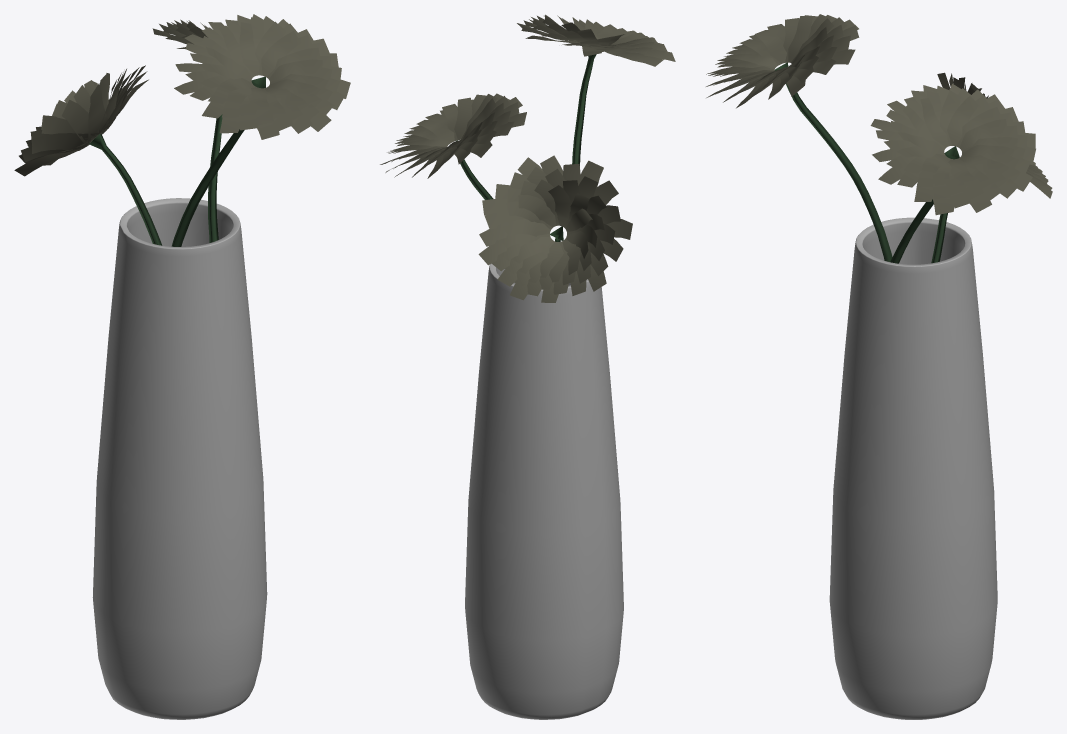
The model's file is En_P_Flower.fbx.
3 renders of one model, left to right at view 1: azimuth 30°, elevation 25°; view 2: azimuth 150°, elevation 25°; view 3: azimuth 270°, elevation 25°, orthographic. The views are drawn at different scales.
Parts seen in each view (by area): view 1: En_P_Vas; view 2: En_P_Vas; view 3: En_P_Vas.
Boxes of the visible parts, <box> form: En_P_Vas: <box>14,14,350,719</box>; En_P_Vas: <box>380,14,675,719</box>; En_P_Vas: <box>706,14,1052,719</box>.
Bounding box in the file's own units: 19.07 × 46.65 × 21.83.
